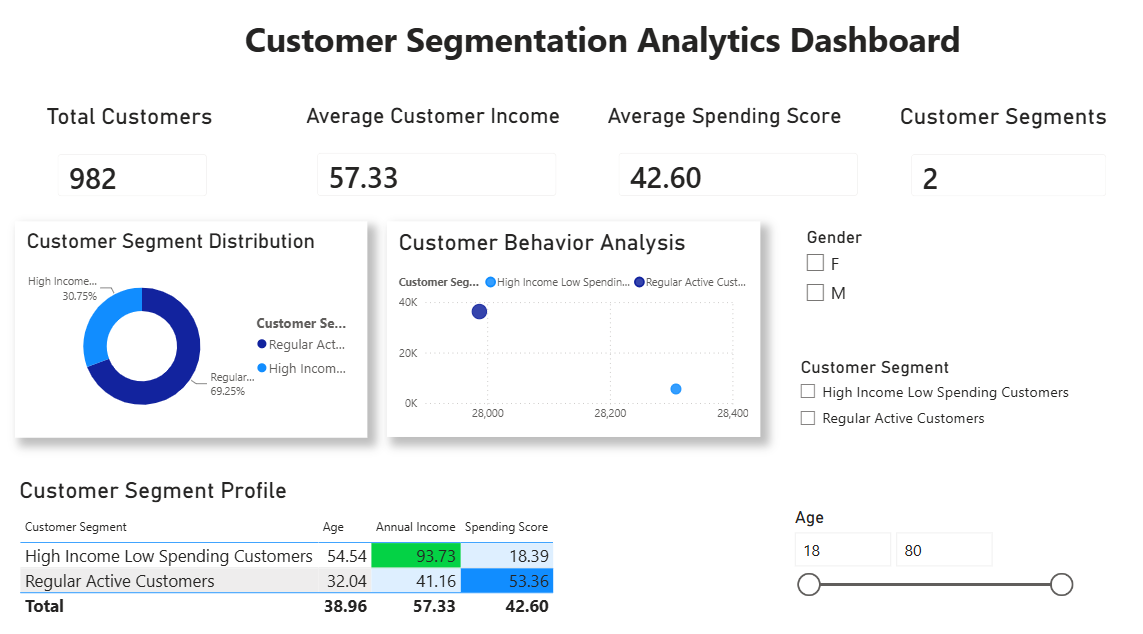

What the dashboard file says about the page in this screenshot:
{"tool":"powerbi","page":{"name":"Page 1","canvas":[1280,720],"ordinal":0},"visuals":[{"type":"cardVisual","title":"Total Customers","fields":{"Data":["CountNonNull(customer_segments.CustomerID)"]},"box":[49.3,119.3,200.4,120.9],"z":0},{"type":"cardVisual","title":"Average Customer Income","fields":{"Data":["Avg(customer_segments.Annual Income (k$))"]},"box":[338.8,119.3,300.6,120.9],"z":1},{"type":"cardVisual","title":"Average Spending Score","fields":{"Data":["Avg(customer_segments.Spending Score (1-100))"]},"box":[672.8,119.3,300.6,120.9],"z":2},{"type":"cardVisual","title":"Customer Segments","fields":{"Data":["Count(customer_segments.Cluster)"]},"box":[998.9,119.3,251.3,120.9],"z":3},{"type":"donutChart","title":"Customer Segment Distribution","fields":{"Category":["customer_segments.Customer Segment"],"Y":["CountNonNull(customer_segments.CustomerID)"]},"box":[20.7,251.3,391.3,240.2],"z":4},{"type":"scatterChart","title":"Customer Behavior Analysis","fields":{"X":["Sum(customer_segments.Annual Income (k$))"],"Y":["Sum(customer_segments.Spending Score (1-100))"],"Series":["customer_segments.Customer Segment"],"Size":["CountNonNull(customer_segments.CustomerID)"]},"box":[432.6,251.3,414.5,239.6],"z":5},{"type":"tableEx","title":"Customer Segment Profile","fields":{"Values":["customer_segments.Customer Segment","Avg(customer_segments.Age)","Avg(customer_segments.Annual Income (k$))","Avg(customer_segments.Spending Score (1-100))"]},"box":[20.7,534.4,614,186.1],"z":6},{"type":"slicer","fields":{"Values":["customer_segments.Gender"]},"box":[886,251.3,319,105.2],"z":7},{"type":"slicer","fields":{"Values":["customer_segments.Customer Segment"]},"box":[879.6,396.1,330.3,123.1],"z":8},{"type":"slicer","fields":{"Values":["customer_segments.Age"]},"box":[872.8,563.5,330.3,157.1],"z":9},{"type":"textbox","box":[263.9,0,819.3,92.3],"z":10}]}

Visuals, with their boxes in screenshot pixels (x1, y1, x2, y2), scaled from the page's 1280x720 canvas onto the 1143x634 screenshot:
"Total Customers" cardVisual: [x1=44, y1=105, x2=223, y2=212]
"Average Customer Income" cardVisual: [x1=303, y1=105, x2=571, y2=212]
"Average Spending Score" cardVisual: [x1=601, y1=105, x2=869, y2=212]
"Customer Segments" cardVisual: [x1=892, y1=105, x2=1116, y2=212]
"Customer Segment Distribution" donutChart: [x1=18, y1=221, x2=368, y2=433]
"Customer Behavior Analysis" scatterChart: [x1=386, y1=221, x2=756, y2=432]
"Customer Segment Profile" tableEx: [x1=18, y1=471, x2=567, y2=633]
slicer - customer_segments.Gender: [x1=791, y1=221, x2=1076, y2=314]
slicer - customer_segments.Customer Segment: [x1=785, y1=349, x2=1080, y2=457]
slicer - customer_segments.Age: [x1=779, y1=496, x2=1074, y2=633]
textbox: [x1=236, y1=0, x2=967, y2=81]
